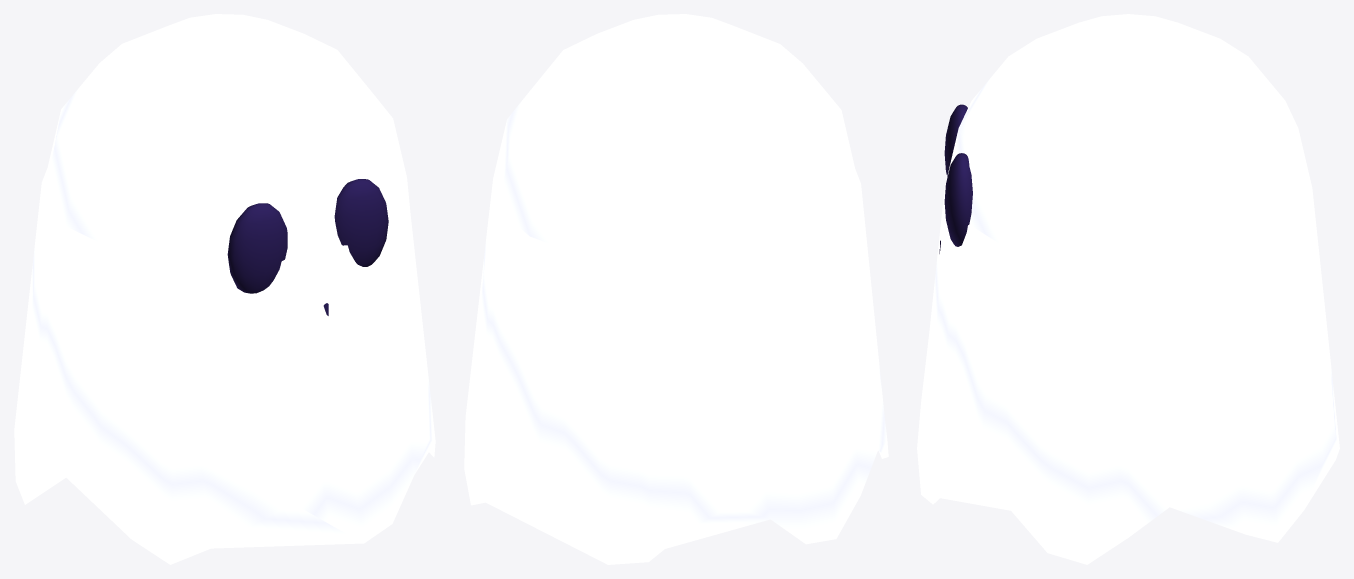
Rendered from ghost.glb.
3 renders of one model, left to right at view 1: azimuth 30°, elevation 25°; view 2: azimuth 150°, elevation 25°; view 3: azimuth 270°, elevation 25°, orthographic.
Parts seen in each view (by area): view 1: ghost.001; view 2: ghost.001; view 3: ghost.001.
Part boxes in pixels (box(x1,y1,x2,y2)): ghost.001: box(14, 14, 435, 564); ghost.001: box(464, 14, 888, 564); ghost.001: box(917, 14, 1339, 564).
Bounding box in the file's own units: 0.736 × 0.86 × 0.736.
